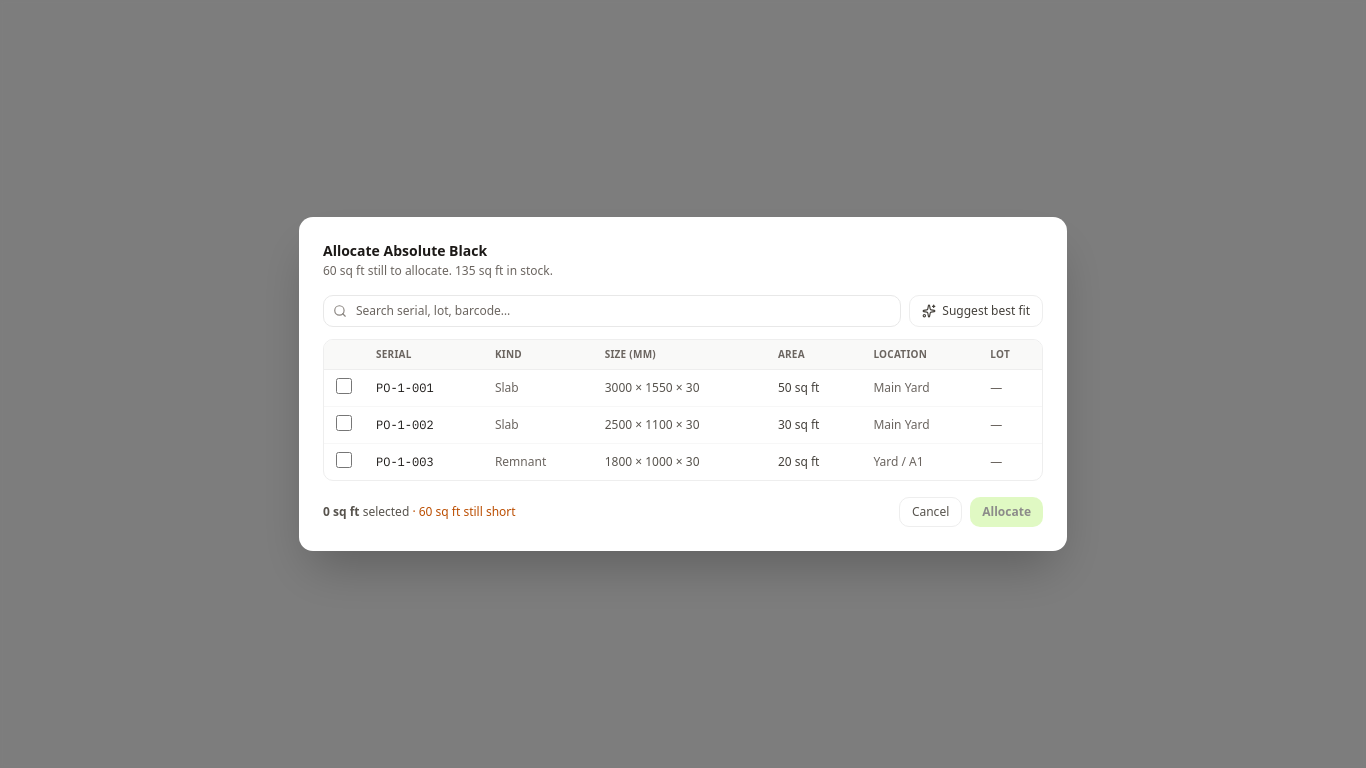
Test: AllocateSlabsDialog › adds up what is selected against what is still short
This screenshot has width=1366, height=768.
Click the checkbox named "Select PO-1-002": click(344, 423) [336,415,352,431]
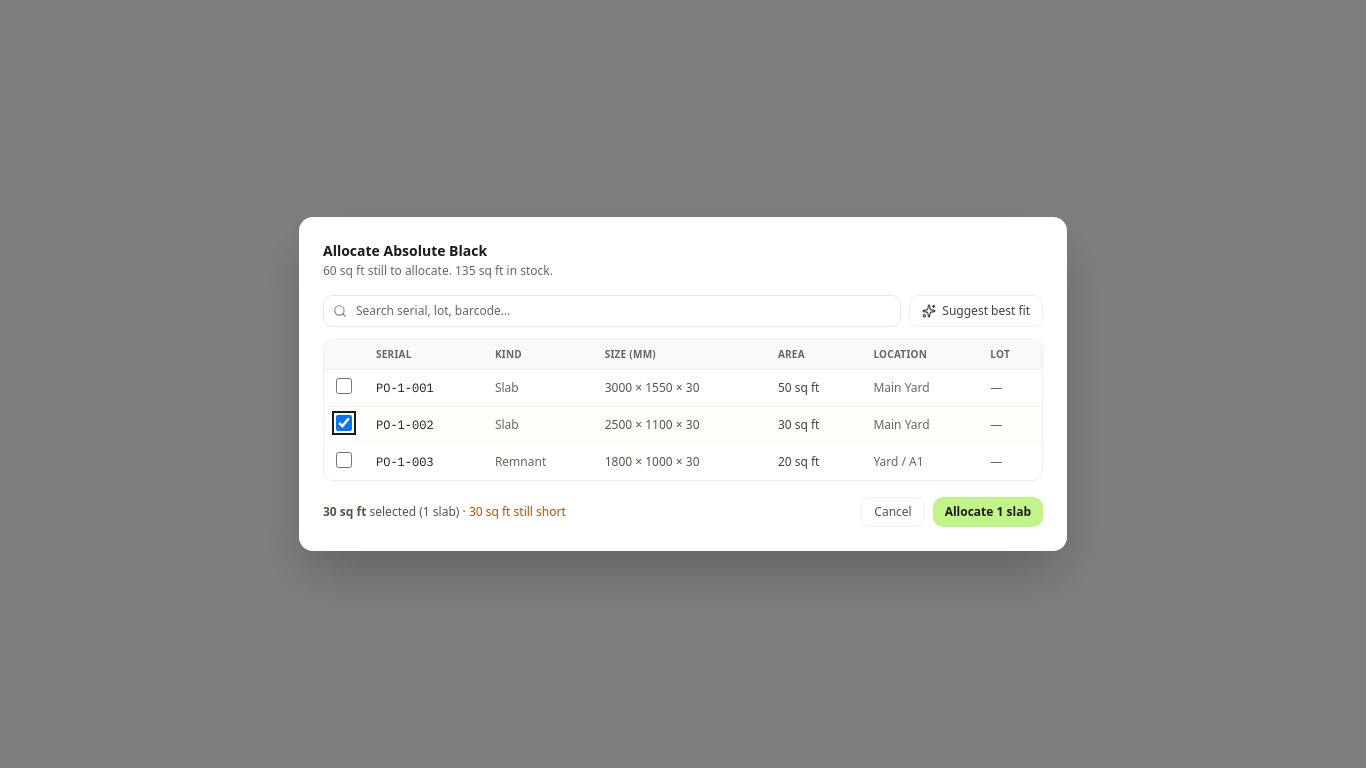
Expected: the text "30 sq ft selected (1 slab) · 30 sq ft still short" is shown, [323,504,566,520]
Click the checkbox named "Select PO-1-001": click(344, 386) [336,378,352,394]
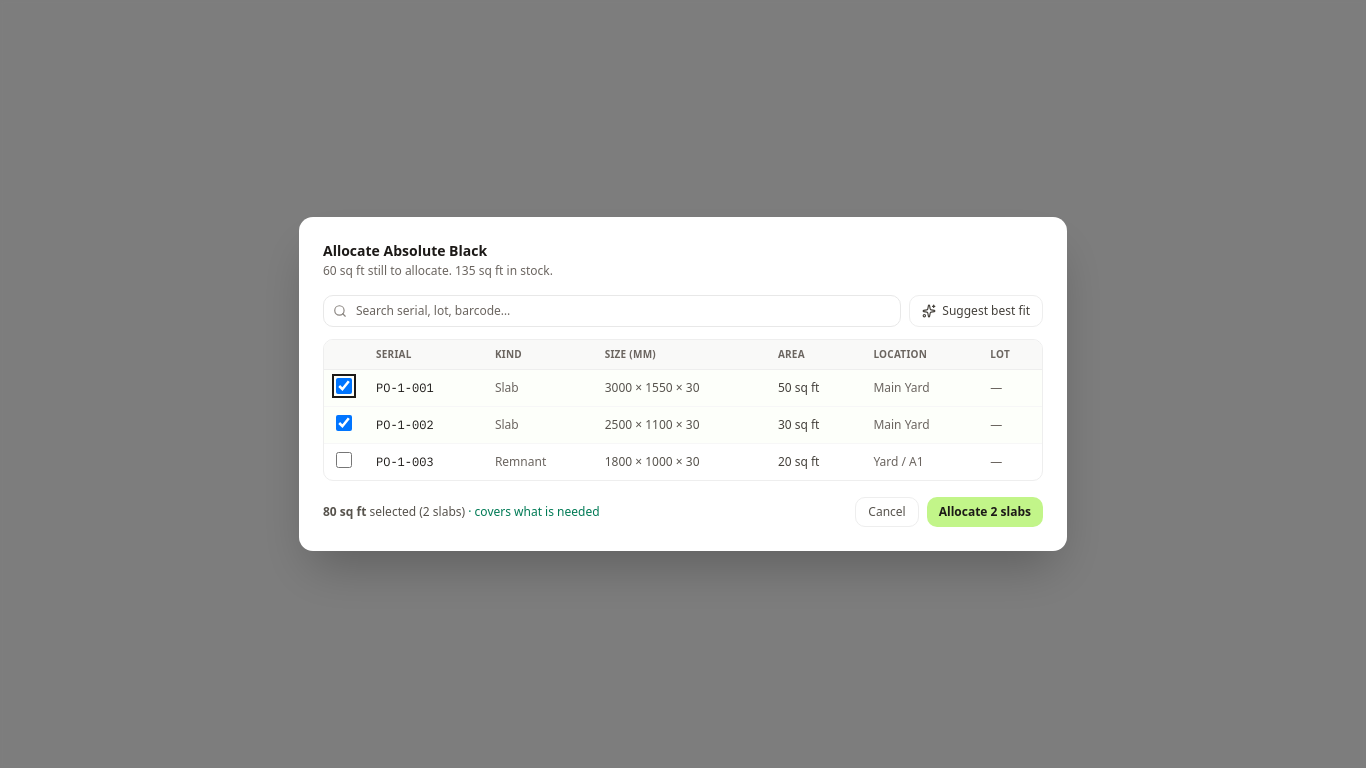
Expected: the button "Allocate 2 slabs" is enabled, [927,497,1043,527]
Expected: the text "80 sq ft selected (2 slabs) · covers what is needed" is shown, [323,504,600,520]
